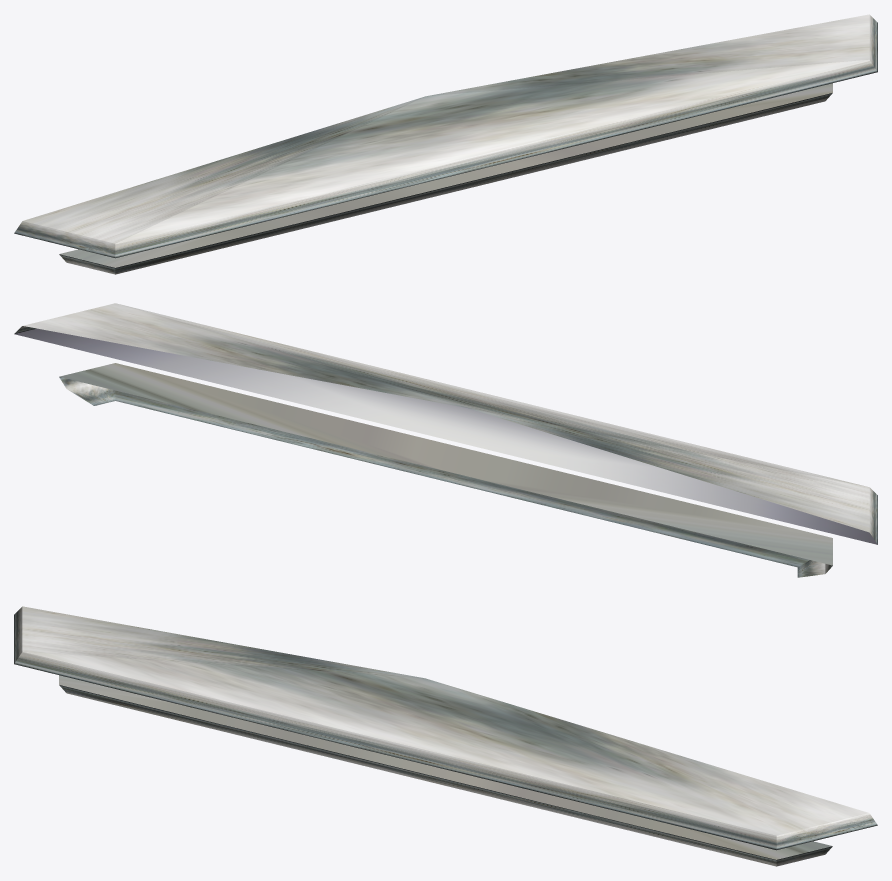
Rendered from lamp_strip_4m.DAE.
3 views of the same model, one above another, from view 1: azimuth 30°, elevation 25°; view 2: azimuth 150°, elevation 25°; view 3: azimuth 330°, elevation 25° (orthographic).
Parts seen in each view (by area): view 1: Cylinder17; view 2: Cylinder17; view 3: Cylinder17.
Boxes of the visible parts, left/top/right/bottom form: Cylinder17: left=14, top=14, right=877, bottom=274; Cylinder17: left=14, top=303, right=877, bottom=577; Cylinder17: left=14, top=606, right=877, bottom=866.
Size of the model in its own units: 8.7 by 0.8576 by 0.8844.
